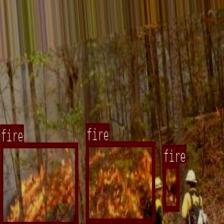fire: (0, 142, 77, 224), (86, 141, 154, 223), (162, 162, 179, 210)
